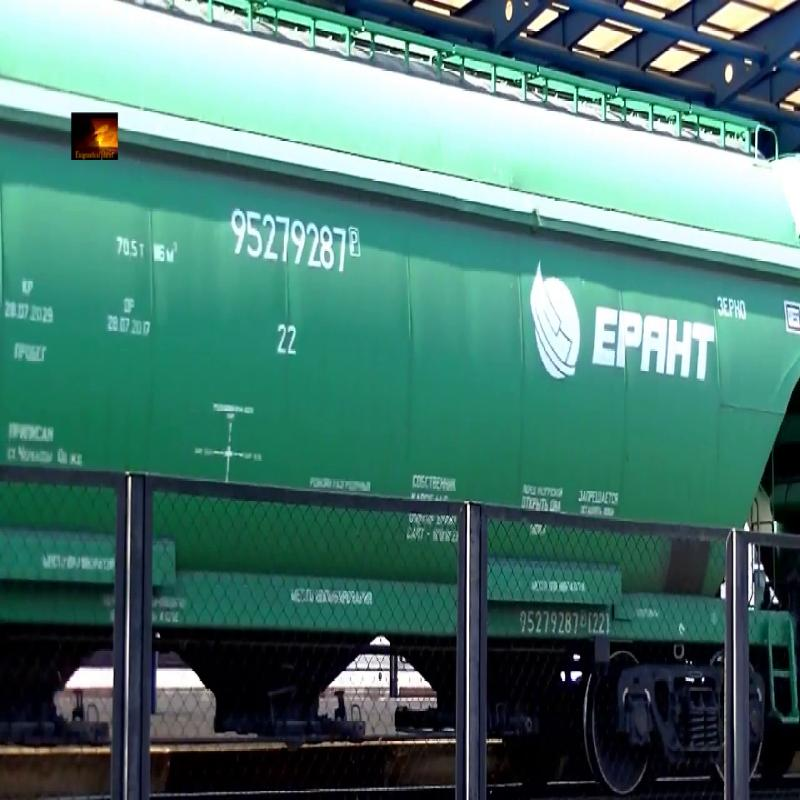train: (13, 1, 800, 763)
